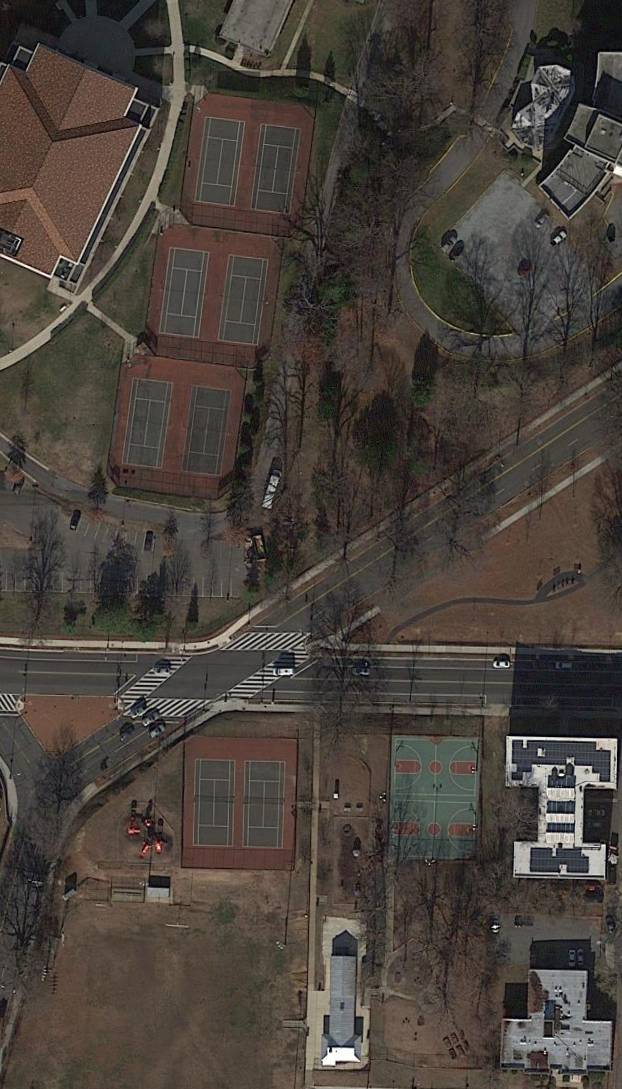basketball court: (392, 798, 477, 861), (393, 737, 480, 797)
large vehicle: (261, 469, 285, 510)
tennis court: (119, 376, 176, 470), (192, 115, 248, 209), (178, 384, 234, 477), (216, 253, 271, 347), (157, 245, 212, 339), (249, 123, 304, 216), (191, 757, 238, 848), (241, 760, 288, 850)
